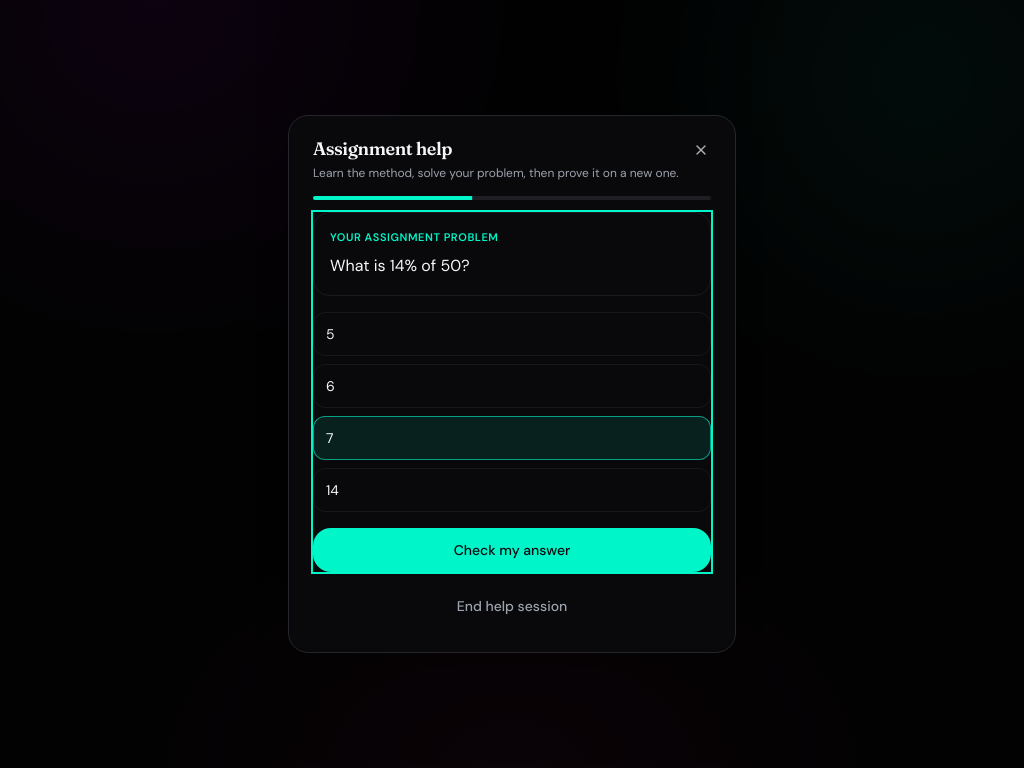
Test: AssignmentTutorRunner › gates answers through hint, analogous walkthrough, original try, and transfer
This screenshot has width=1024, height=768.
Earlier steps of the test are not shown.
Expected: the text "Correct." is not shown
Click the button "Check my answer": (512, 550) [313,528,711,572]
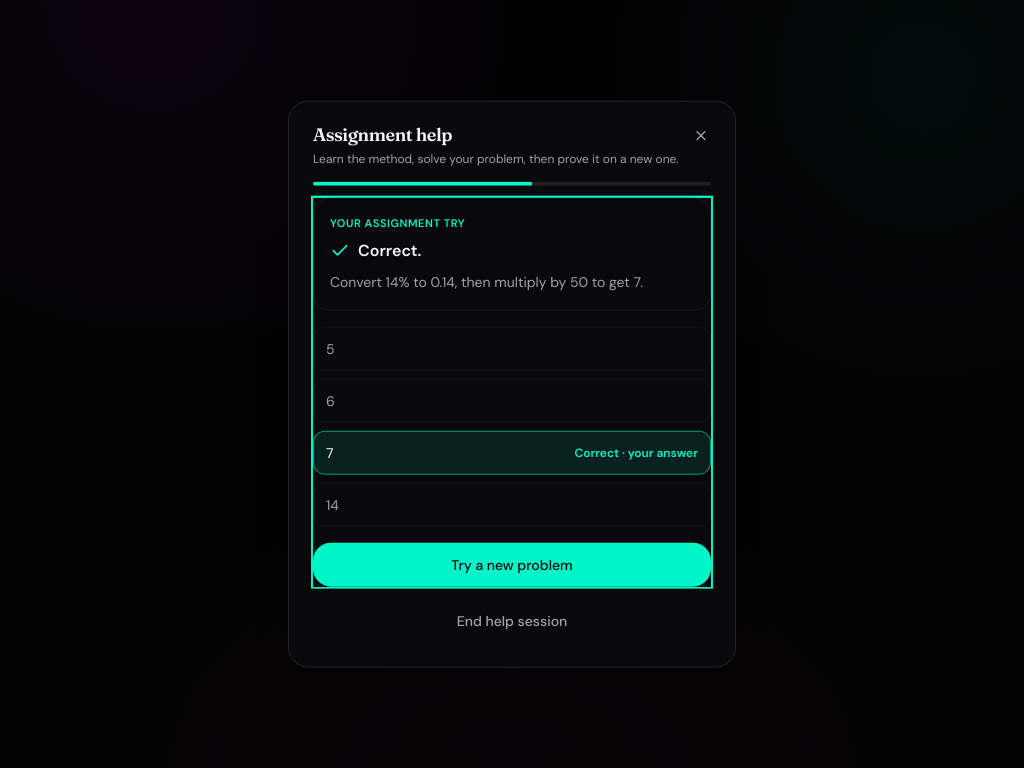
Result: the text "Correct." is shown at [330,240,421,261]
Click the button "Try a new problem": (512, 564) [313,542,711,586]
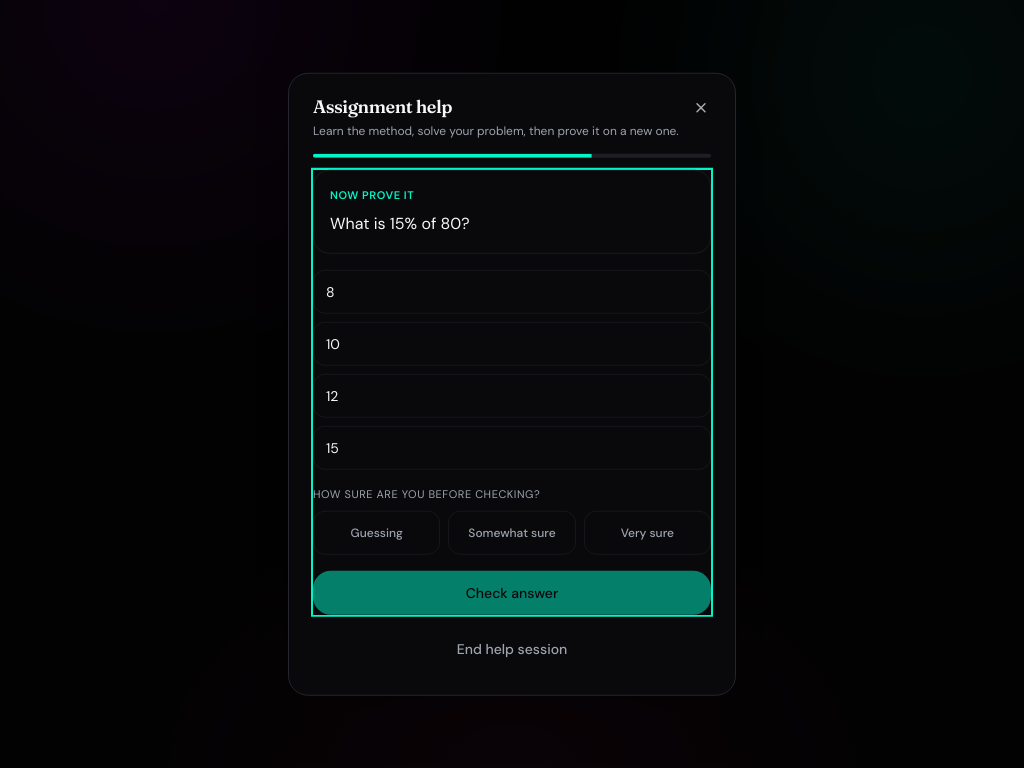
Expected: the text "0.15 multiplied by 80" is not shown
Result: the text "What is 15% of 80?" is shown at [330,213,470,234]
Result: the button "Check answer" is disabled at [313,570,711,614]
Click the button "12": (332, 396) [313,374,711,418]
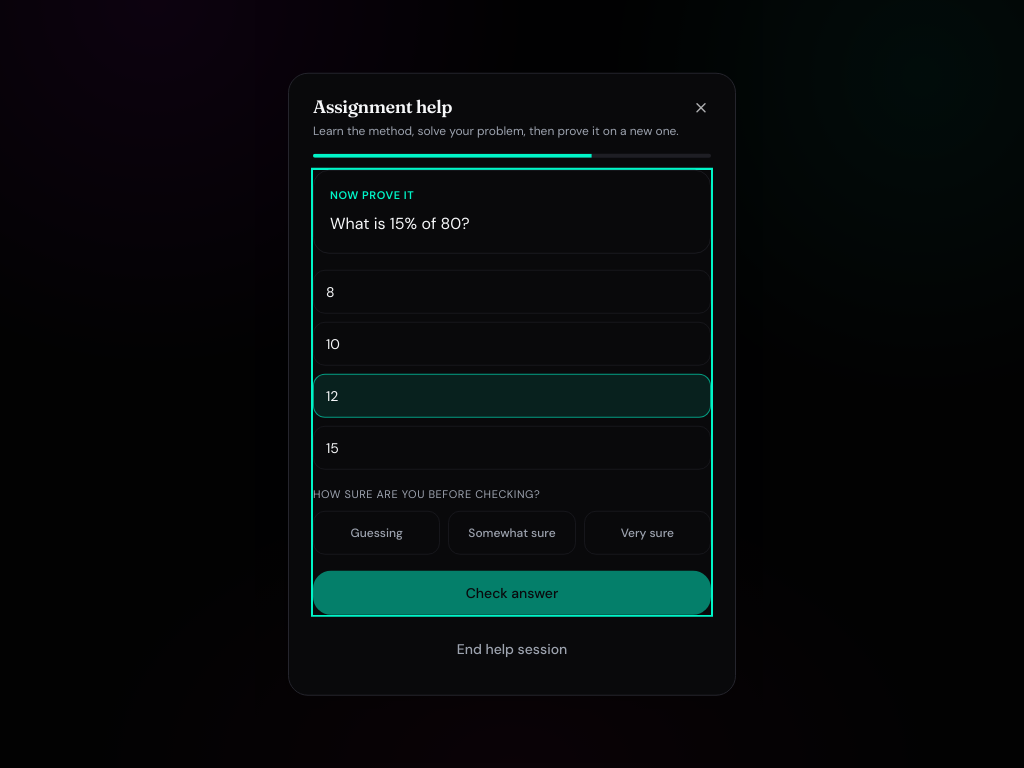
Click the button "Very sure": (647, 532) [584,510,711,554]
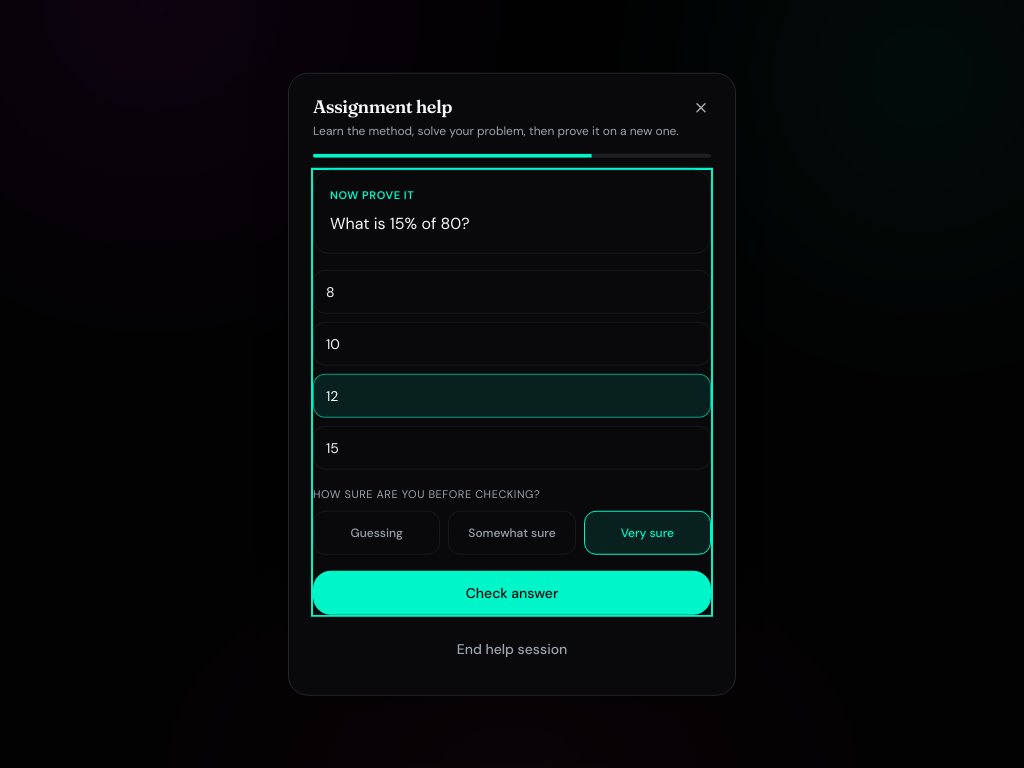
Click the button "Check answer": (512, 592) [313,570,711,614]
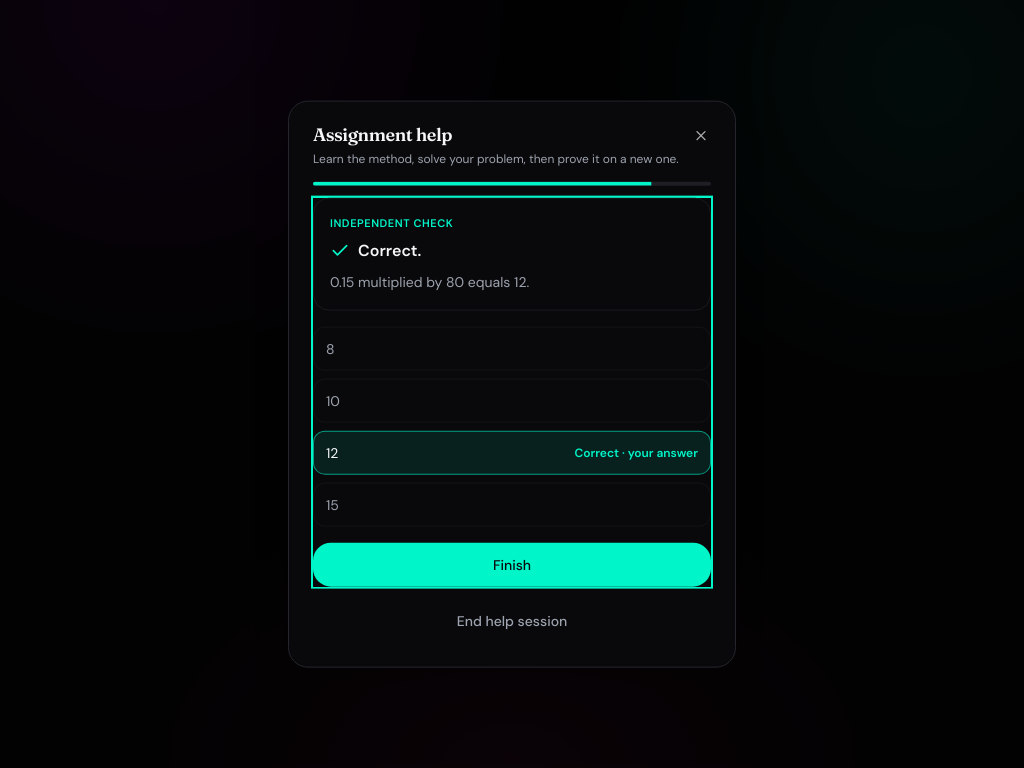
Result: the text "0.15 multiplied by 80 equals 12." is shown at [330,273,529,291]
Click the button "Finish": (512, 564) [313,542,711,586]
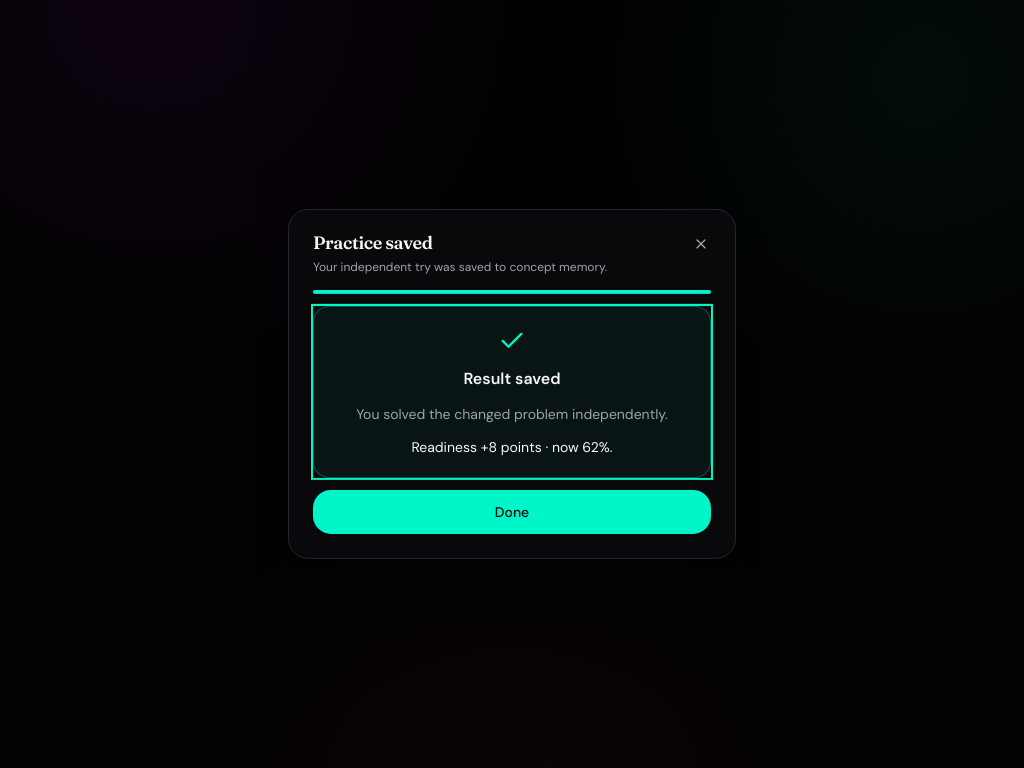
Result: the text "Result saved" is shown at [463,367,561,388]
